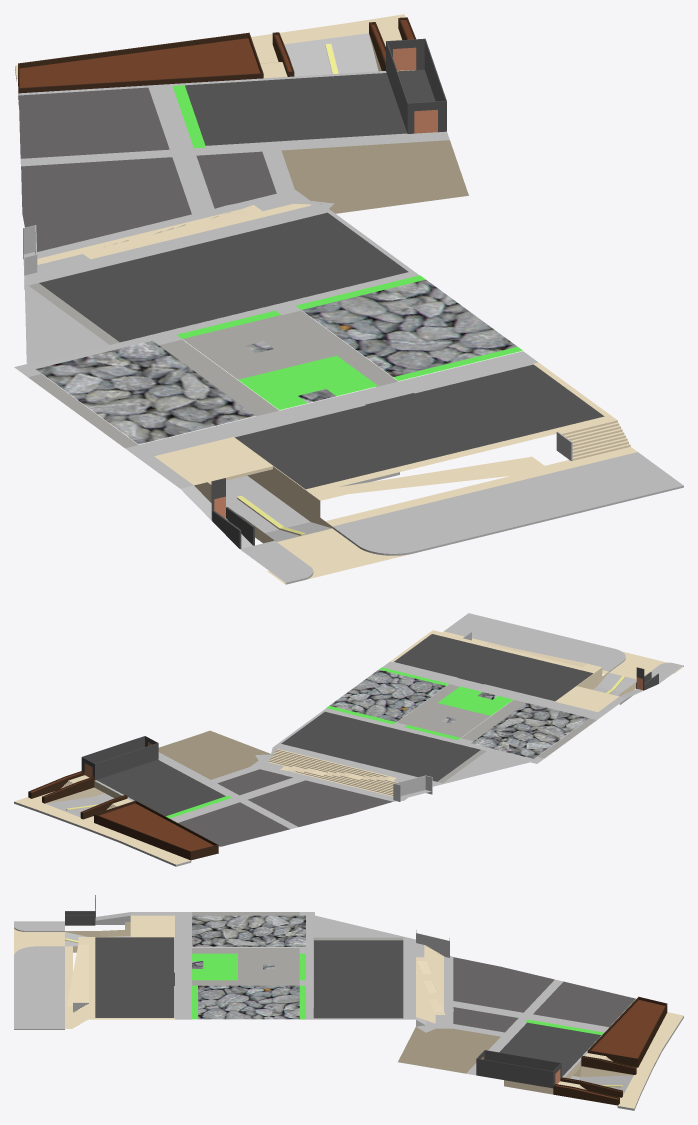
File: MSH_Piso.FBX
3 renders of one model, top to bottom at view 1: azimuth 30°, elevation 25°; view 2: azimuth 150°, elevation 25°; view 3: azimuth 270°, elevation 25°, orthographic. The views are drawn at different scales.
Visible parts, largest first — view 1: MSH_Piso, MSH_Jardinara-grande-Lado-C, MSH_Ducto-acceso-C, MSH_Acceso-torre-A, MSH_Macetas-Piso; view 2: MSH_Piso, MSH_Jardinara-grande-Lado-C, MSH_Ducto-acceso-C, MSH_Macetas-Piso; view 3: MSH_Piso, MSH_Jardinara-grande-Lado-C, MSH_Ducto-acceso-C, MSH_Macetas-Piso, MSH_Acceso-torre-A.
Part boxes in pixels (x1,y1,x2,y2): MSH_Piso: (14, 14, 683, 584); MSH_Jardinara-grande-Lado-C: (18, 32, 263, 104); MSH_Ducto-acceso-C: (386, 38, 446, 133); MSH_Acceso-torre-A: (211, 478, 254, 548); MSH_Macetas-Piso: (272, 17, 415, 76); MSH_Piso: (14, 613, 683, 866); MSH_Jardinara-grande-Lado-C: (94, 800, 218, 860); MSH_Ducto-acceso-C: (81, 736, 158, 780); MSH_Macetas-Piso: (28, 771, 127, 819); MSH_Piso: (14, 912, 683, 1110); MSH_Jardinara-grande-Lado-C: (587, 996, 667, 1067); MSH_Ducto-acceso-C: (476, 1050, 561, 1088); MSH_Macetas-Piso: (553, 1056, 636, 1105); MSH_Acceso-torre-A: (65, 895, 95, 925).
Bounding box in the file's own units: 7590 × 776 × 11714.
